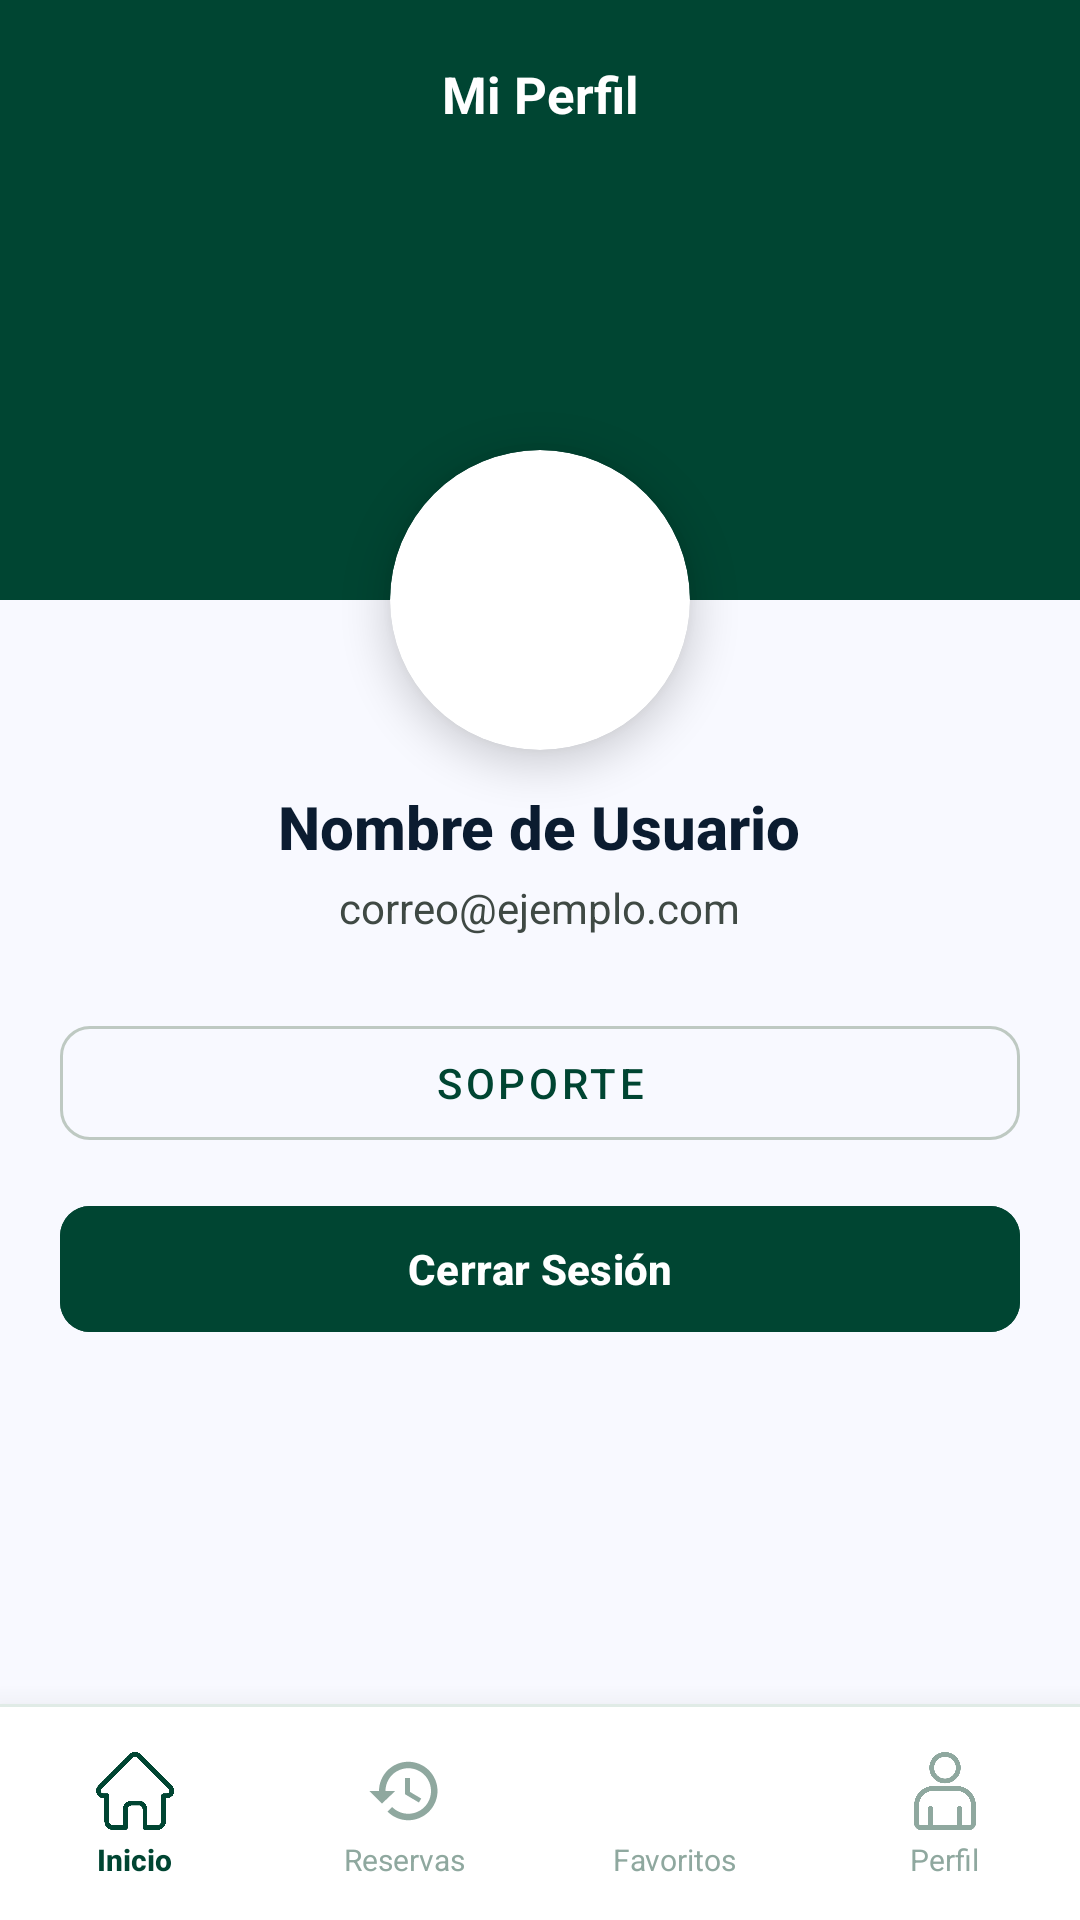

Named icons in this screenshot (1080w x 1920h) and their bounding boxes, (x1, y1, x2, y2):
historial: (370, 1761, 438, 1821)
